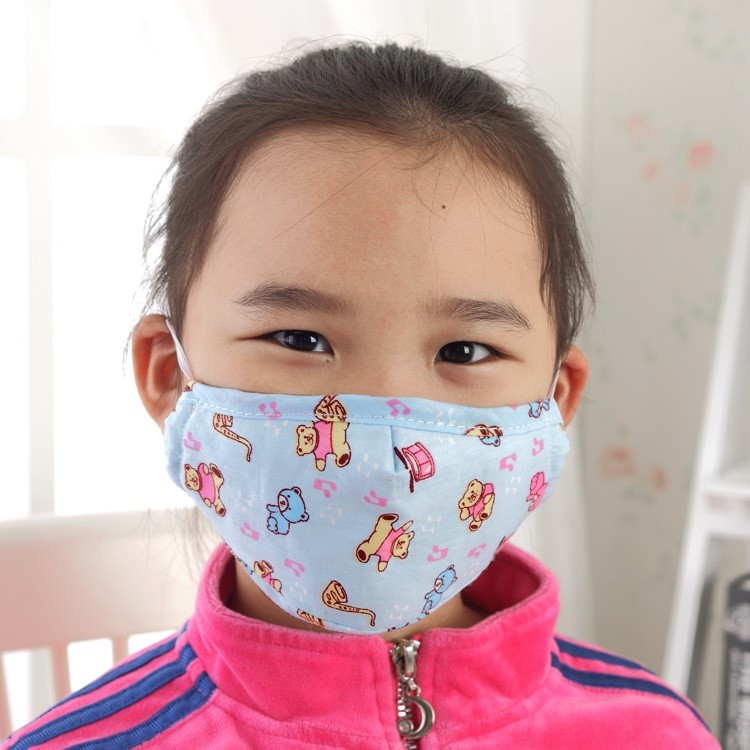face_with_mask: (101, 100, 586, 670)
